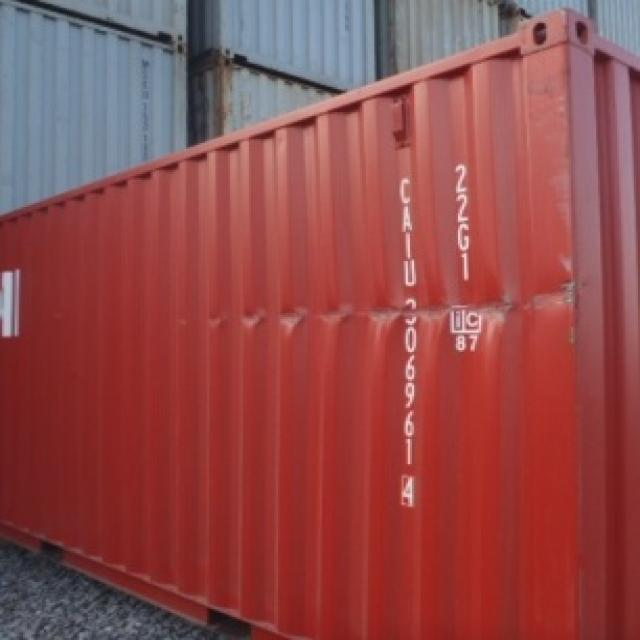dent: (531, 278, 584, 326), (411, 298, 453, 330), (314, 300, 356, 325), (468, 298, 516, 317), (279, 299, 302, 334), (371, 304, 398, 325), (242, 306, 262, 329), (209, 314, 227, 329)
